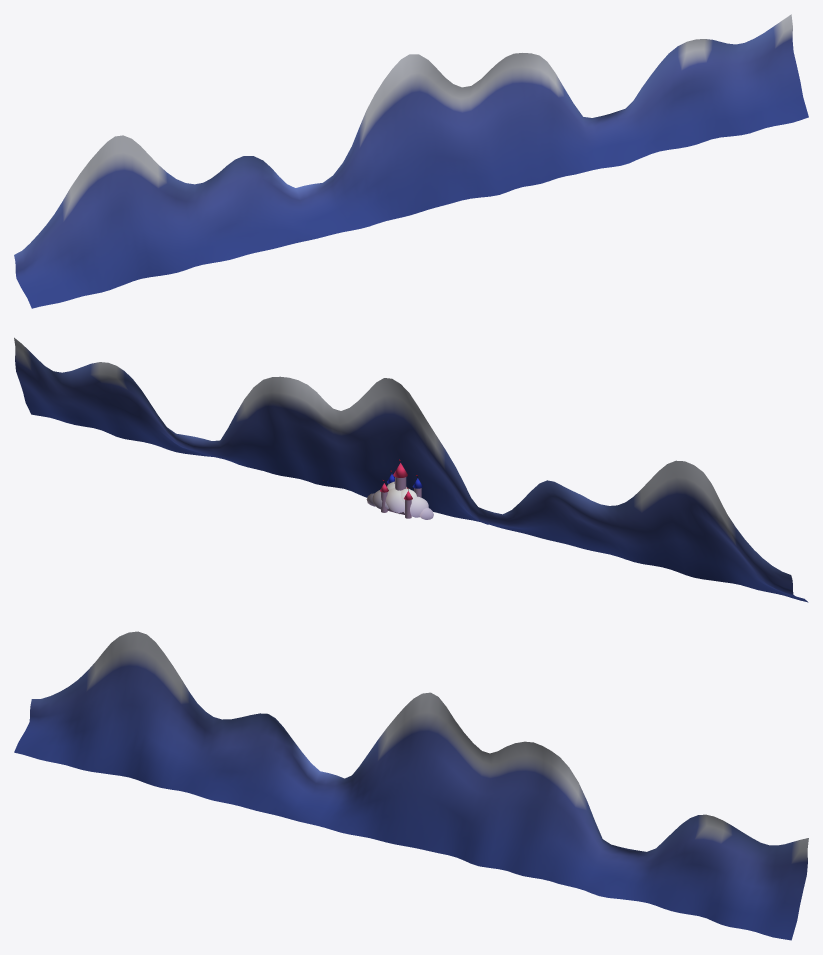
Rendered from FairyProps.fbx.
3 views of the same model, one above another, from view 1: azimuth 30°, elevation 25°; view 2: azimuth 150°, elevation 25°; view 3: azimuth 330°, elevation 25° (orthographic).
Parts seen in each view (by area): view 1: Mountains; view 2: Mountains, Cloud1, Castle; view 3: Mountains.
Boxes of the visible parts, x1,y1,x2,y2 form: Mountains: [14, 14, 808, 308]; Mountains: [14, 337, 808, 602]; Cloud1: [366, 481, 433, 519]; Castle: [380, 459, 422, 518]; Mountains: [14, 631, 808, 940].
Size of the model in its own units: 420 by 73.42 by 26.31.
